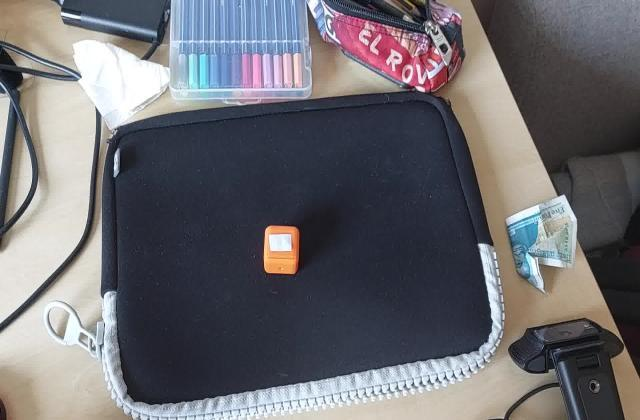sticker: (261, 224, 300, 276)
white: (268, 232, 296, 253)
